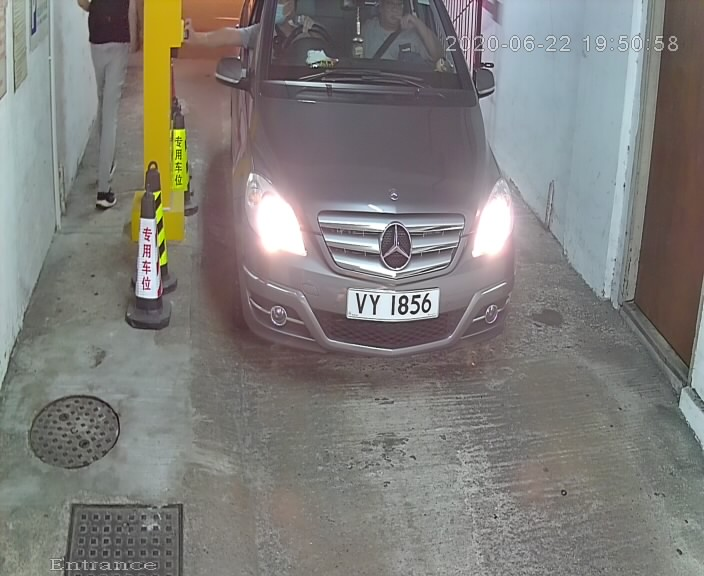privatecar: (182, 2, 546, 388)
